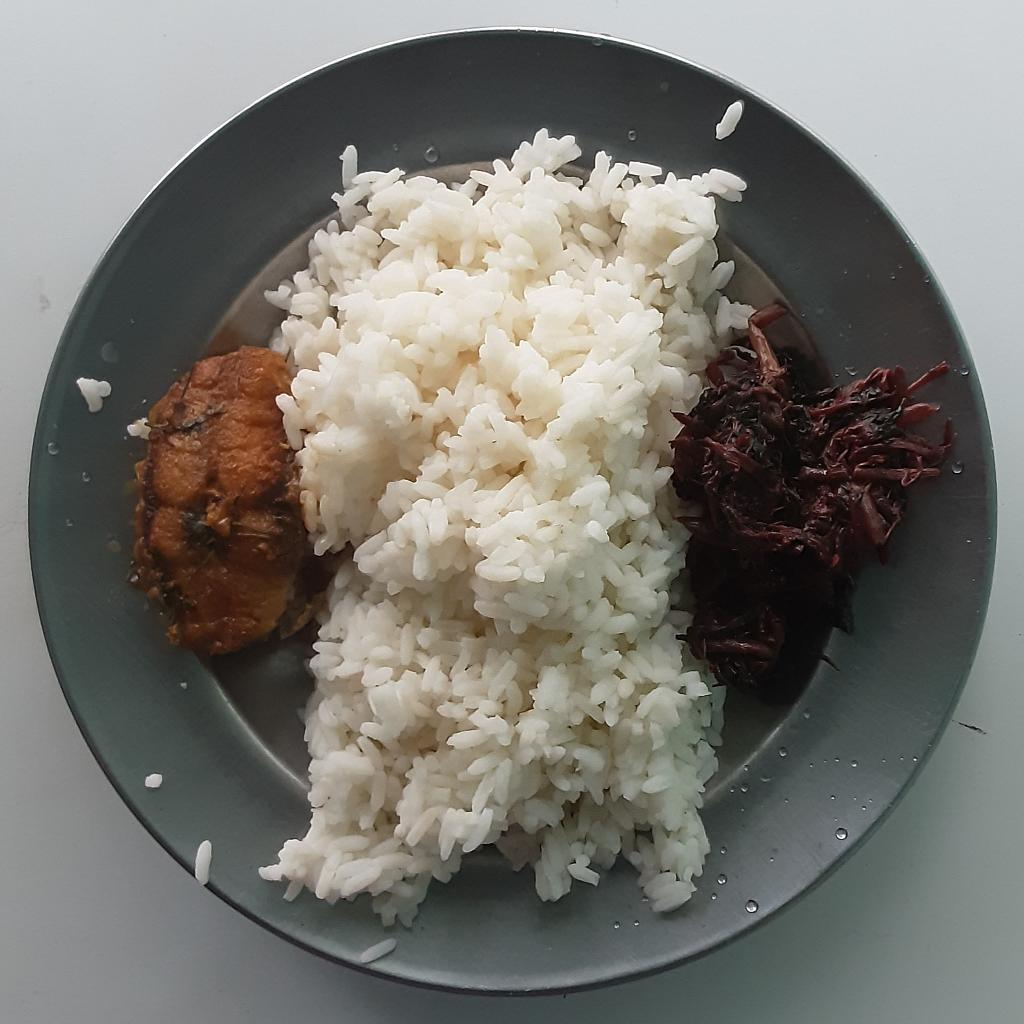fish: (125, 348, 326, 661)
lal-shak: (670, 301, 951, 693)
rice: (253, 125, 754, 962)
